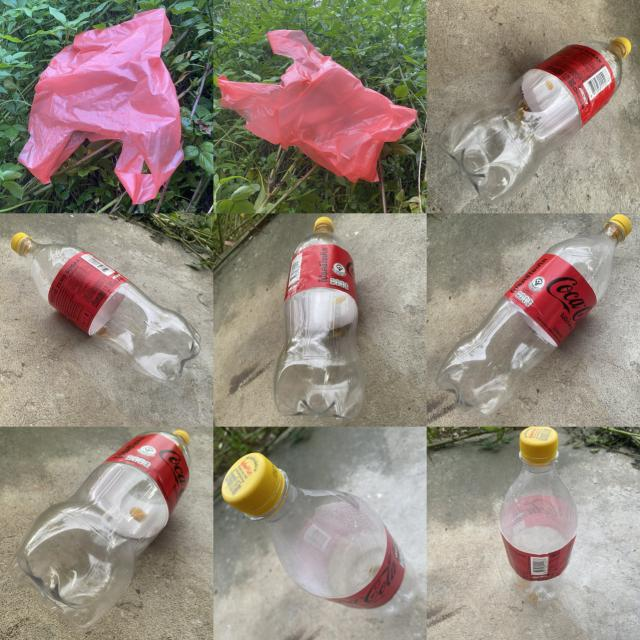Single-layer Plastic: (19, 9, 184, 203), (218, 30, 416, 182)
